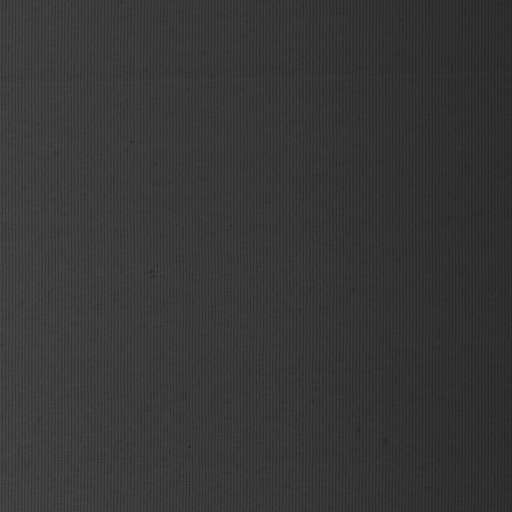defect: (1, 67, 512, 92)
